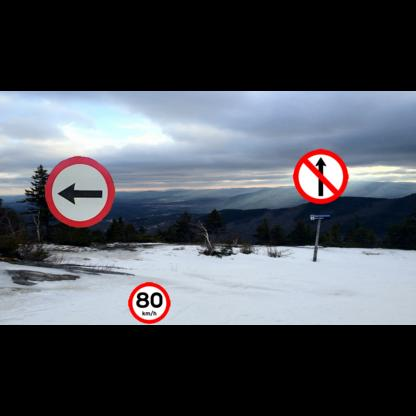R-19: (128, 282, 170, 324)
R-24a: (45, 156, 115, 227)
R-3: (293, 149, 348, 204)
